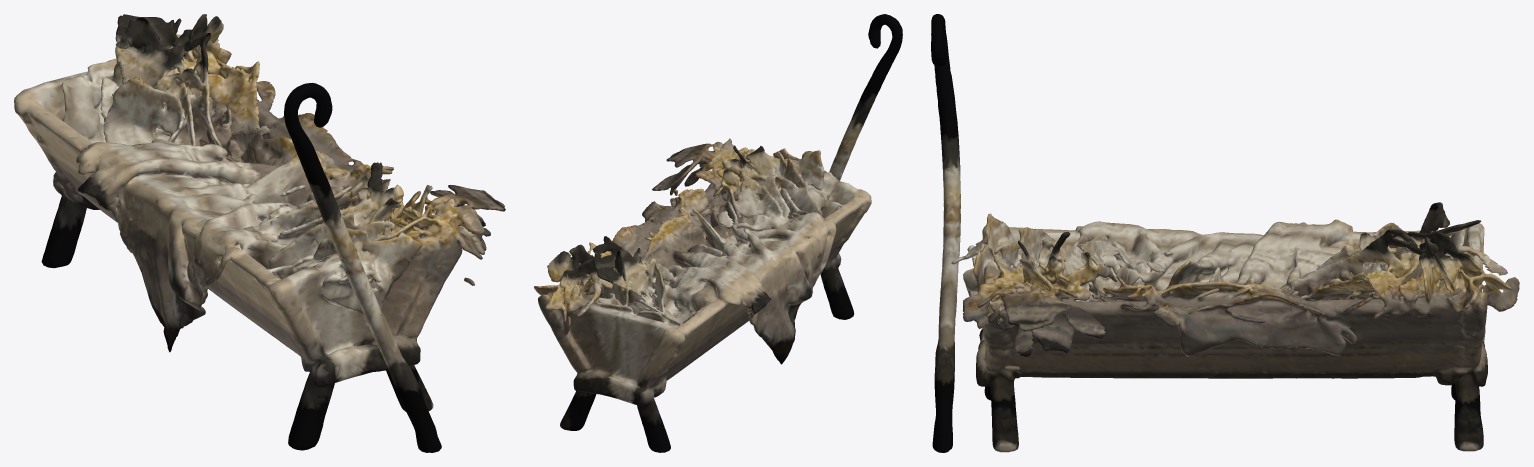
Rendered from the-manger.glb.
The picture shows the model from 3 angles, left to right: view 1: azimuth 30°, elevation 25°; view 2: azimuth 150°, elevation 25°; view 3: azimuth 270°, elevation 25°; orthographic projection. The views are drawn at different scales.
Bounding box in the file's own units: 1 × 1.39 × 1.98.
